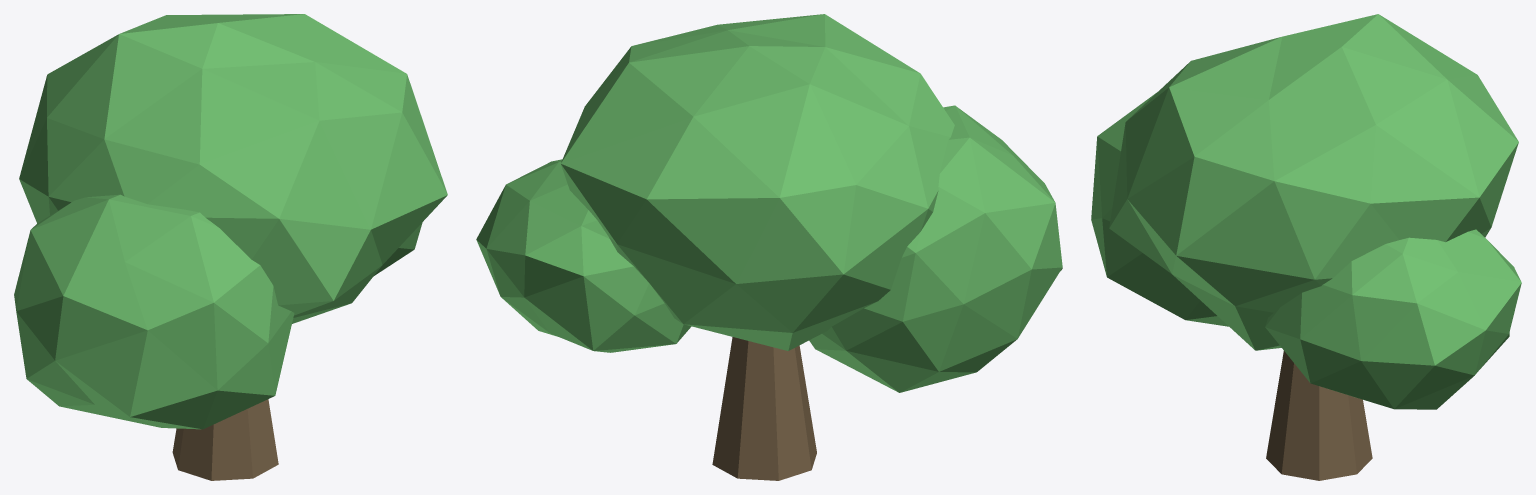
3 views of the same model, side by side, from view 1: azimuth 30°, elevation 25°; view 2: azimuth 150°, elevation 25°; view 3: azimuth 270°, elevation 25° (orthographic). The views are drawn at different scales.
Parts seen in each view (by area): view 1: node (×4); view 2: node (×4); view 3: node (×4).
Boxes of the visible parts, bbox=[...] form: node (×4): bbox=[14, 14, 447, 480]; node (×4): bbox=[476, 14, 1062, 480]; node (×4): bbox=[1091, 14, 1521, 480].
Size of the model in its own units: 2.09 by 1.8 by 1.7.
